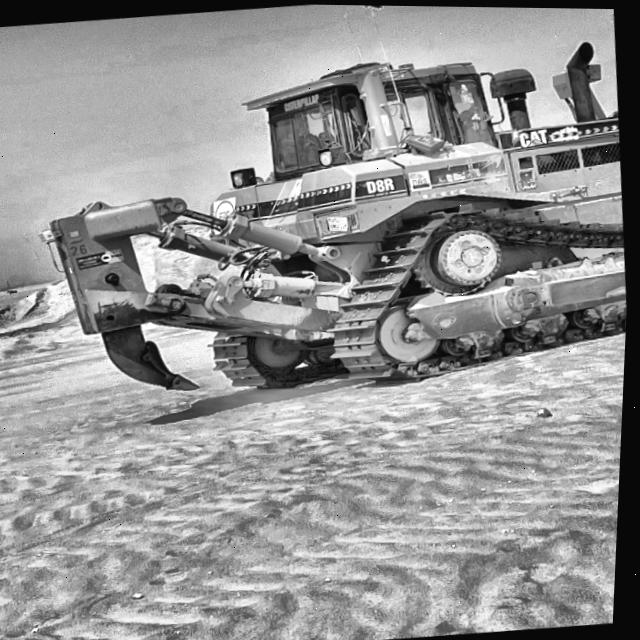buldozerpayloadergrader: (23, 0, 640, 444)
